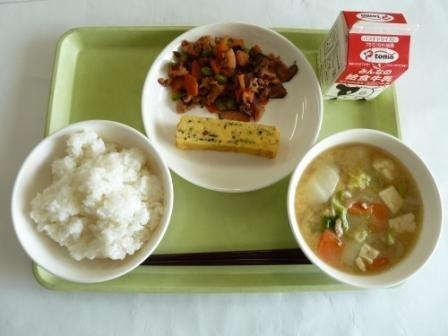Bread: (171, 111, 287, 166)
Milk: (313, 13, 413, 104)
Rice: (6, 121, 173, 278)
cooked food meat with vegetables: (163, 28, 299, 115)
vegetable soup: (299, 141, 435, 271)
